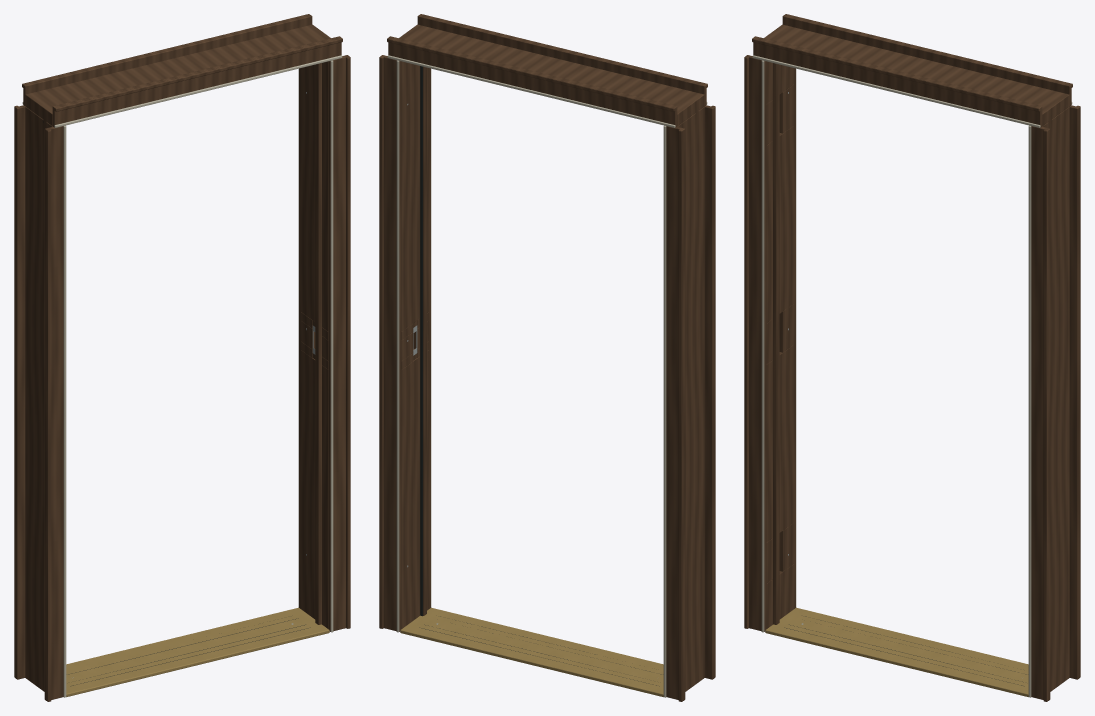
Rendered from SM_DoorFrame_Archive.fbx.
3 views of the same model, side by side, from view 1: azimuth 30°, elevation 25°; view 2: azimuth 150°, elevation 25°; view 3: azimuth 330°, elevation 25° (orthographic).
Parts seen in each view (by area): view 1: SM_DoorFrame_Archive; view 2: SM_DoorFrame_Archive; view 3: SM_DoorFrame_Archive.
Boxes of the visible parts, box(x1,y1,x2,y2) form: SM_DoorFrame_Archive: box(14, 14, 350, 701); SM_DoorFrame_Archive: box(379, 14, 715, 701); SM_DoorFrame_Archive: box(744, 14, 1080, 701).
Bounding box in the file's own units: 1.16 × 0.226 × 2.17.
